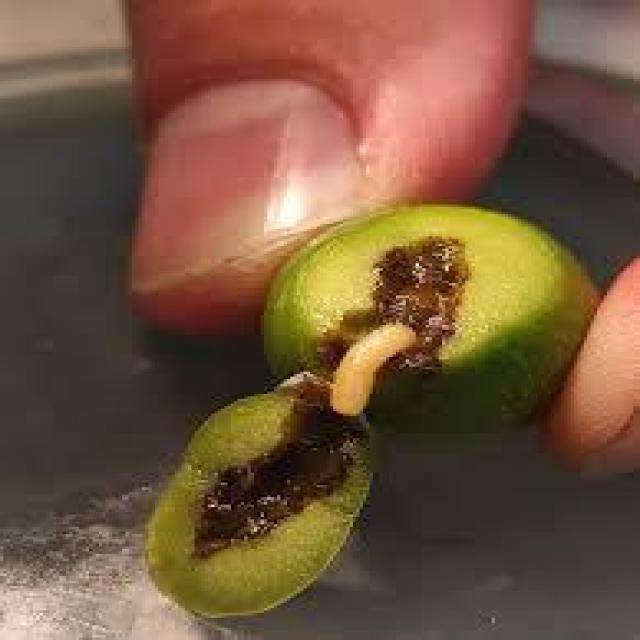Anthracnose: (148, 204, 598, 618)
